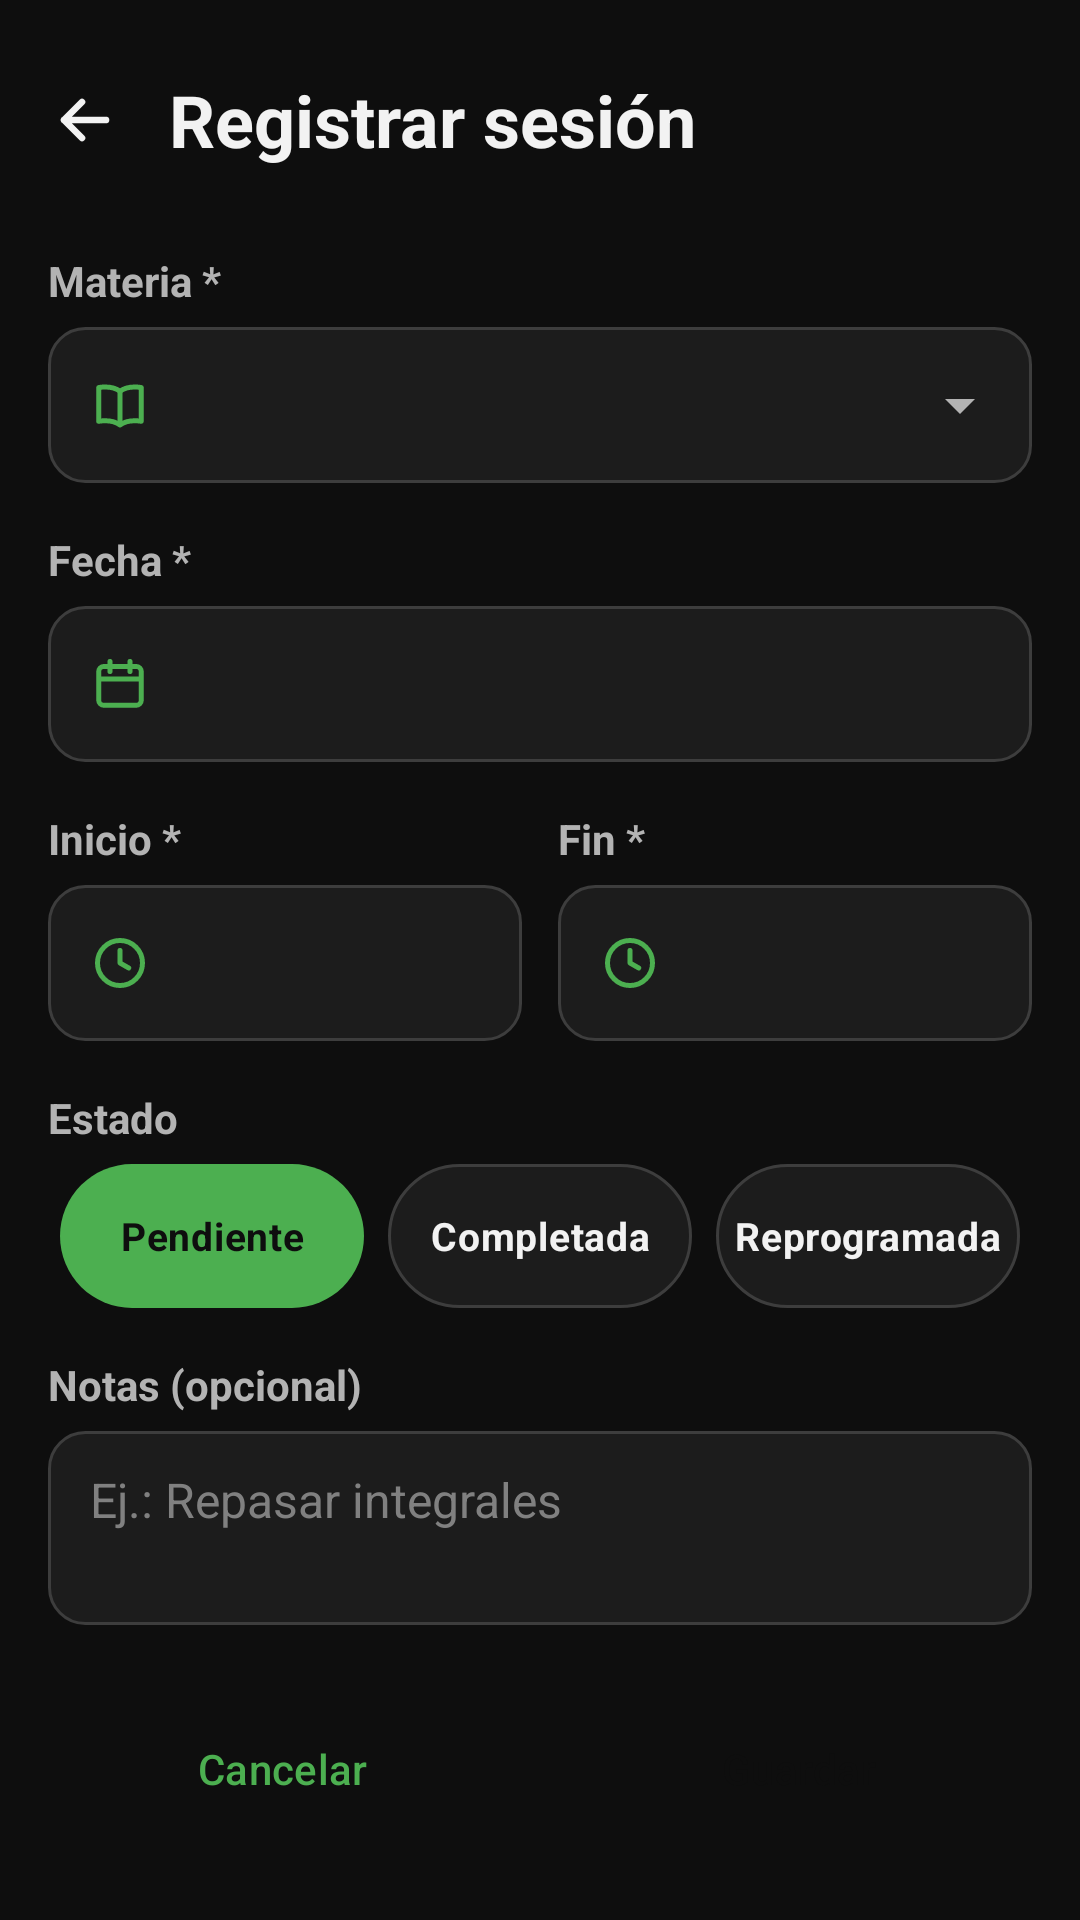

Where to tap for icons on this 1080px×1920px app screen, as (x=x, y=y):
libro: (x=120, y=406)
Volver: (x=85, y=120)
